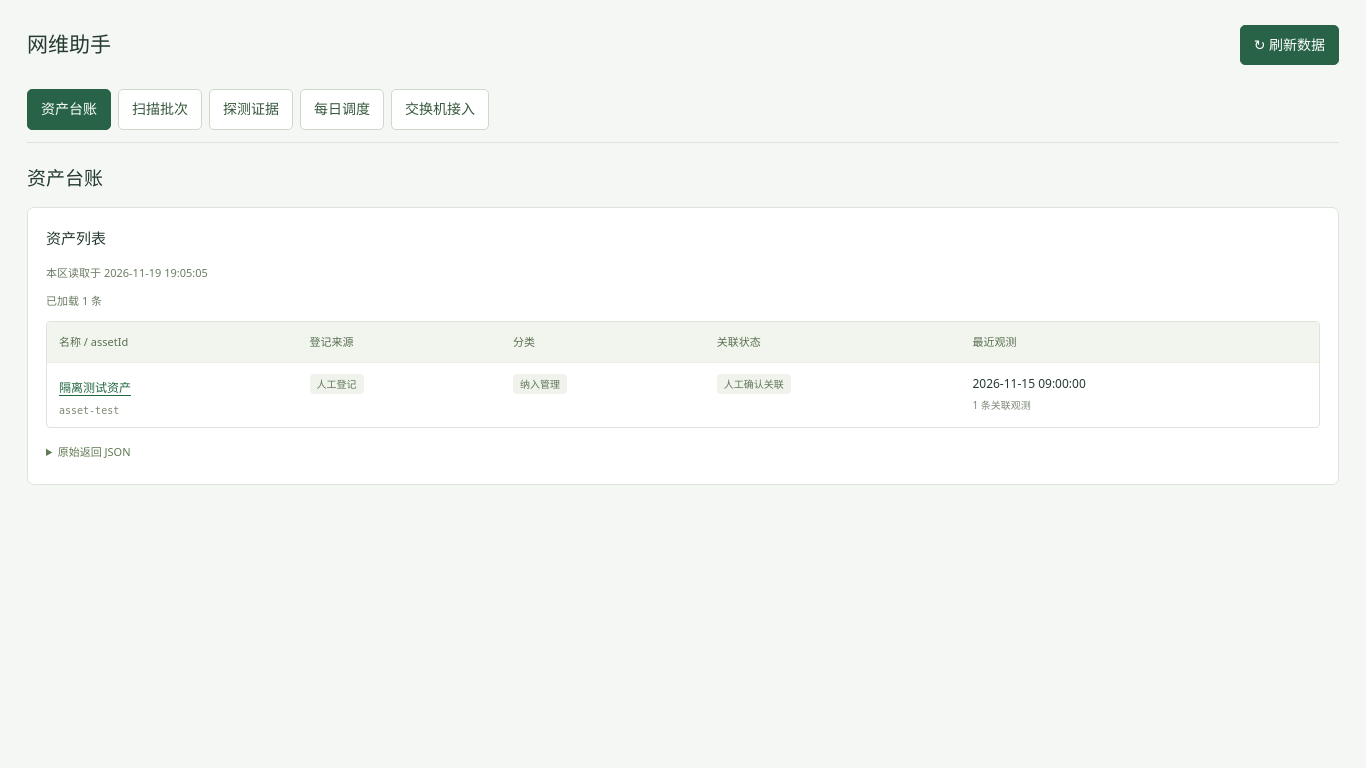
Test: 最小工作台真实读取语义（隔离响应） › 扫描页读取后端比对结果，不在前端预设变化数据
The image size is (1366, 768).
Check: the button with aria-label "查看 隔离测试资产" is shown, box [59, 374, 131, 401]
Click the button "扫描批次".
click(160, 110)  # box [118, 89, 202, 130]
(page scrolled)
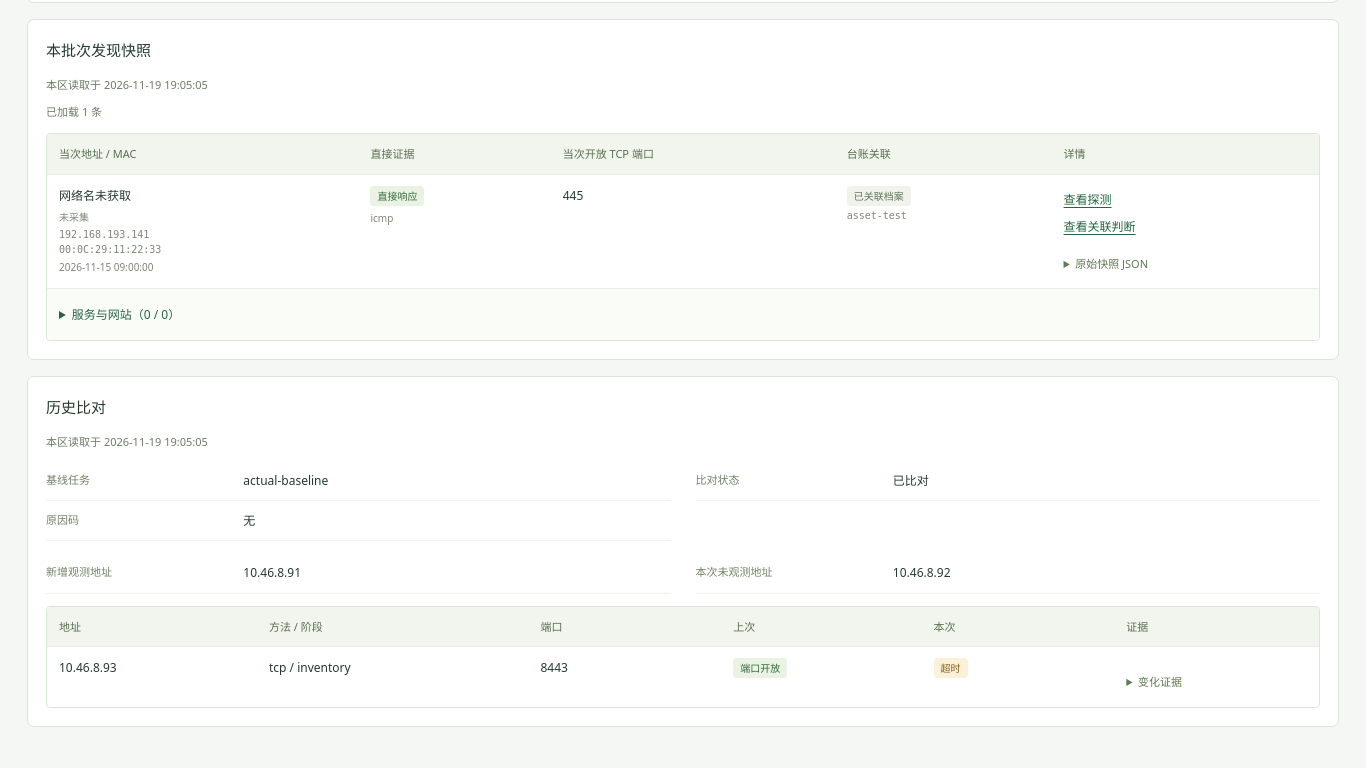
Check: the text "10.46.8.93" is shown, box [47, 647, 257, 707]
Check: the text "8443" is shown, box [528, 647, 721, 707]
Check: the text "超时" is shown, box [934, 658, 968, 678]
